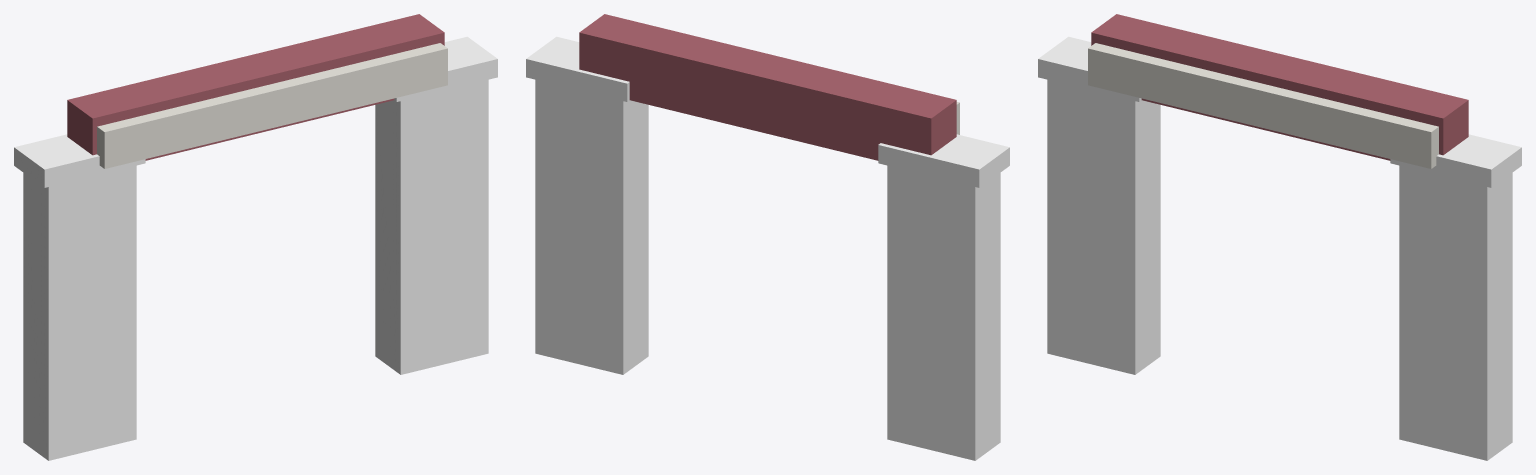
File: Arch_M11_MarqueeGate.glb
The picture shows the model from 3 angles, left to right: view 1: azimuth 30°, elevation 25°; view 2: azimuth 150°, elevation 25°; view 3: azimuth 330°, elevation 25°; orthographic projection.
Visible parts, largest first — view 1: Arch_M11_MarqueeGate_LOD0; view 2: Arch_M11_MarqueeGate_LOD0; view 3: Arch_M11_MarqueeGate_LOD0.
Boxes of the visible parts, x1,y1,x2,y2 form: Arch_M11_MarqueeGate_LOD0: (14, 14, 497, 460); Arch_M11_MarqueeGate_LOD0: (526, 14, 1009, 460); Arch_M11_MarqueeGate_LOD0: (1038, 14, 1521, 460).
Bounding box in the file's own units: 10.3 × 7.2 × 1.4.
